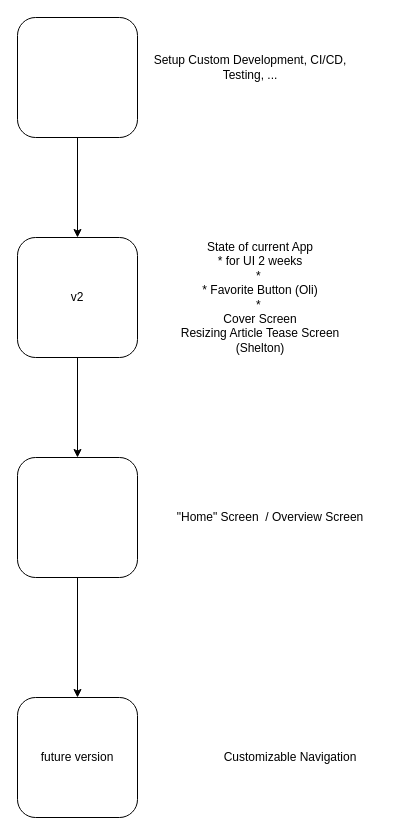
Some shapes in this 411 by 835 pixel diagram are drawn without their labels. The centre of each missing label's shape, as x and y in pixels:
current dev: (x=77, y=77)
v2.1: (x=77, y=517)
